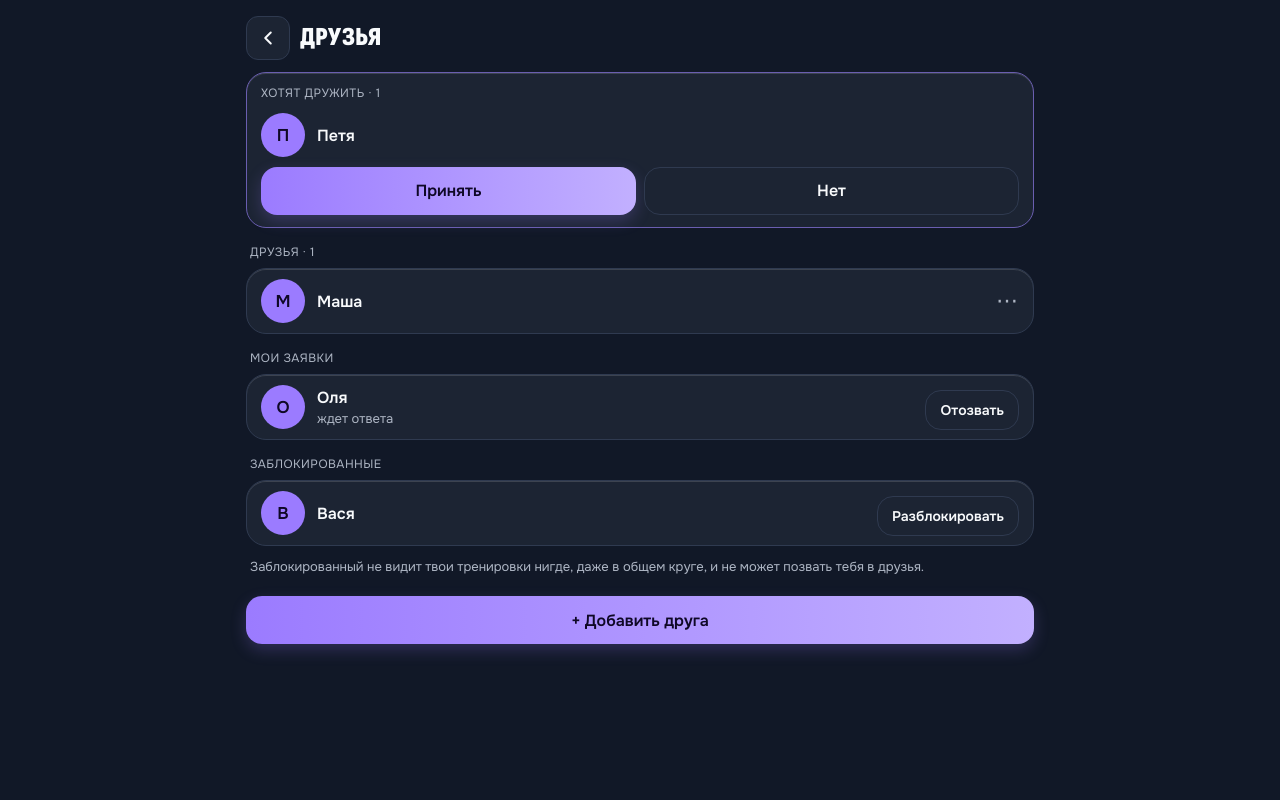
it: FriendsScreen — коды дружбы › «Добавить друга»: мой код крупно, «Новый код» — с подтверждением
Click the button "+ Добавить друга". click: (640, 620)
box: [246,596,1034,644]
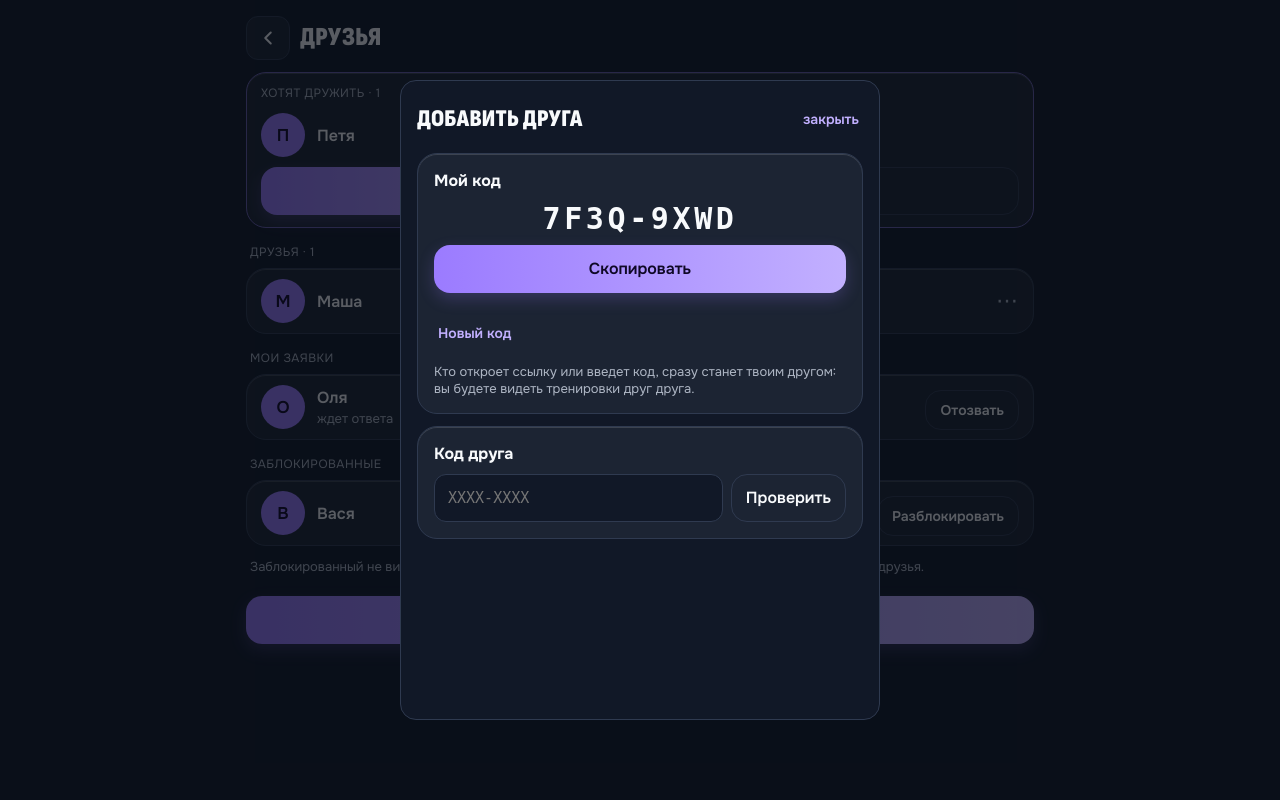
Check: the button with test id "fr-code" reads "7F3Q-9XWD", box [542,201,738,236]
Click the button "Новый код". click: (475, 333)
box: [434,311,515,355]
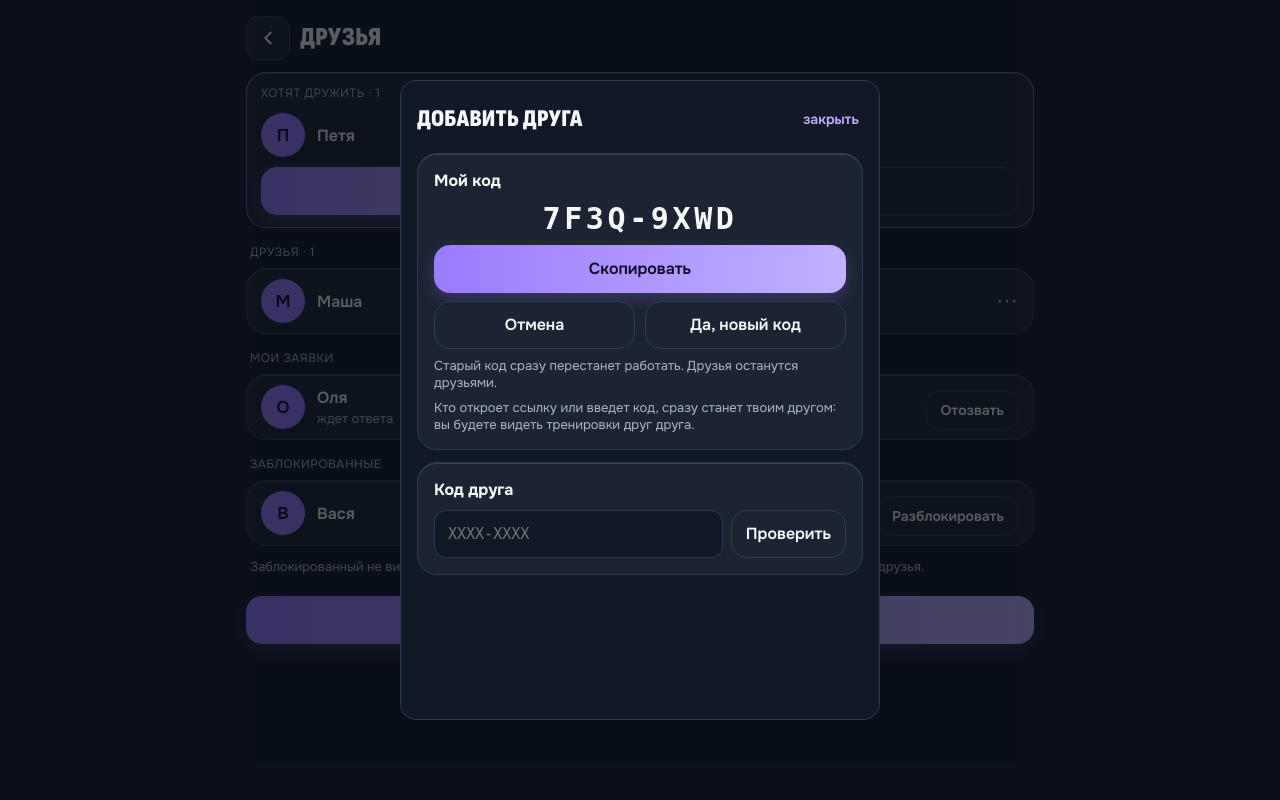
Check: the text "Старый код сразу перестанет работать" is shown, box [434,357,798,391]
Click the button "Да, новый код". click: (746, 325)
box: [645,301,846,349]
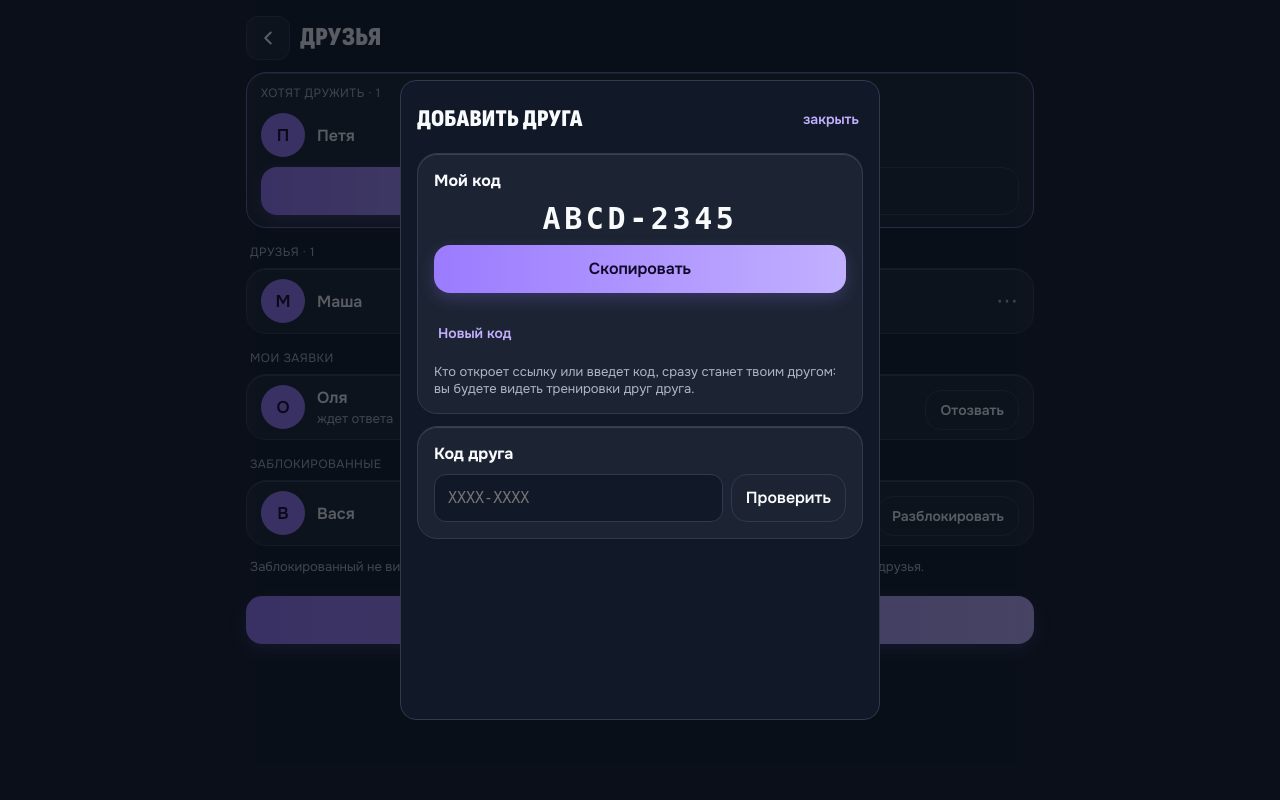
Check: the button with test id "fr-code" reads "ABCD-2345", box [542,201,738,236]
